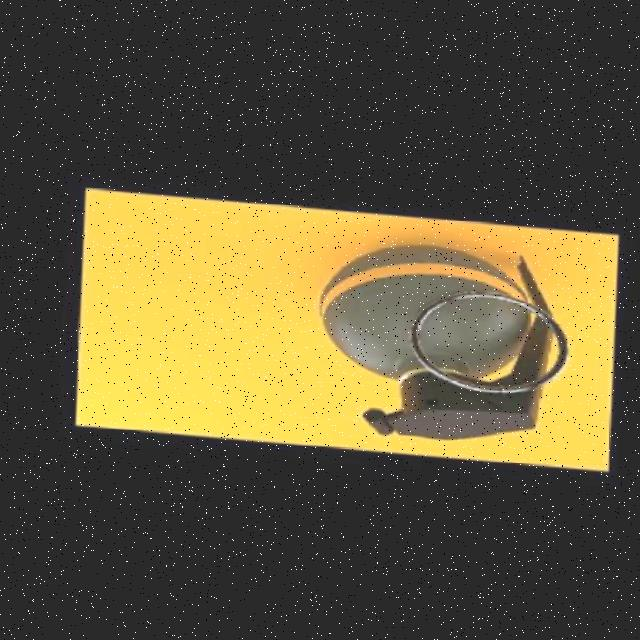grenade: (301, 228, 586, 454)
